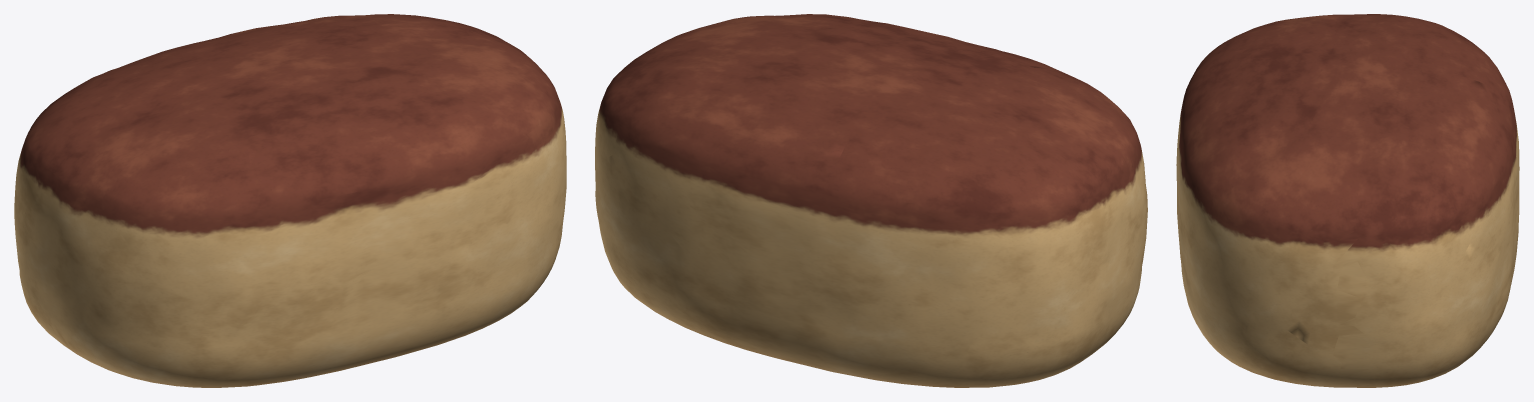
Rendered from kurimanju_lod1.glb.
3 views of the same model, side by side, from view 1: azimuth 30°, elevation 25°; view 2: azimuth 150°, elevation 25°; view 3: azimuth 270°, elevation 25° (orthographic). The views are drawn at different scales.
Visible parts, largest first — view 1: kurimanju_lod1; view 2: kurimanju_lod1; view 3: kurimanju_lod1.
Boxes of the visible parts, x1,y1,x2,y2 form: kurimanju_lod1: (14, 14, 566, 387); kurimanju_lod1: (595, 14, 1147, 387); kurimanju_lod1: (1176, 14, 1519, 387).
Bounding box in the file's own units: 0.065 × 0.03 × 0.043.
Materials: 1 (1 with a texture image).
